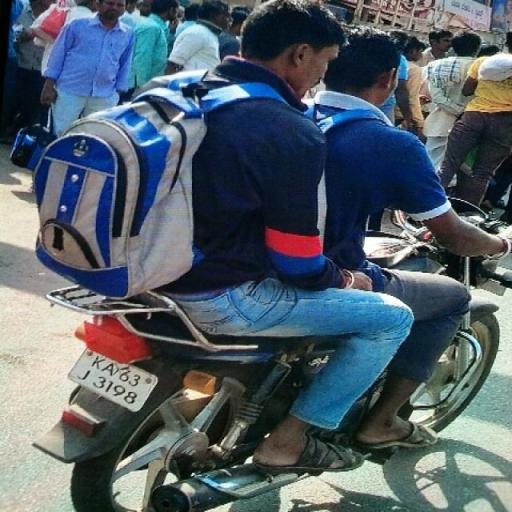bike: (29, 1, 501, 512)
numberplate: (70, 340, 160, 414)
withouthelmet: (240, 0, 338, 78), (327, 27, 397, 92)
